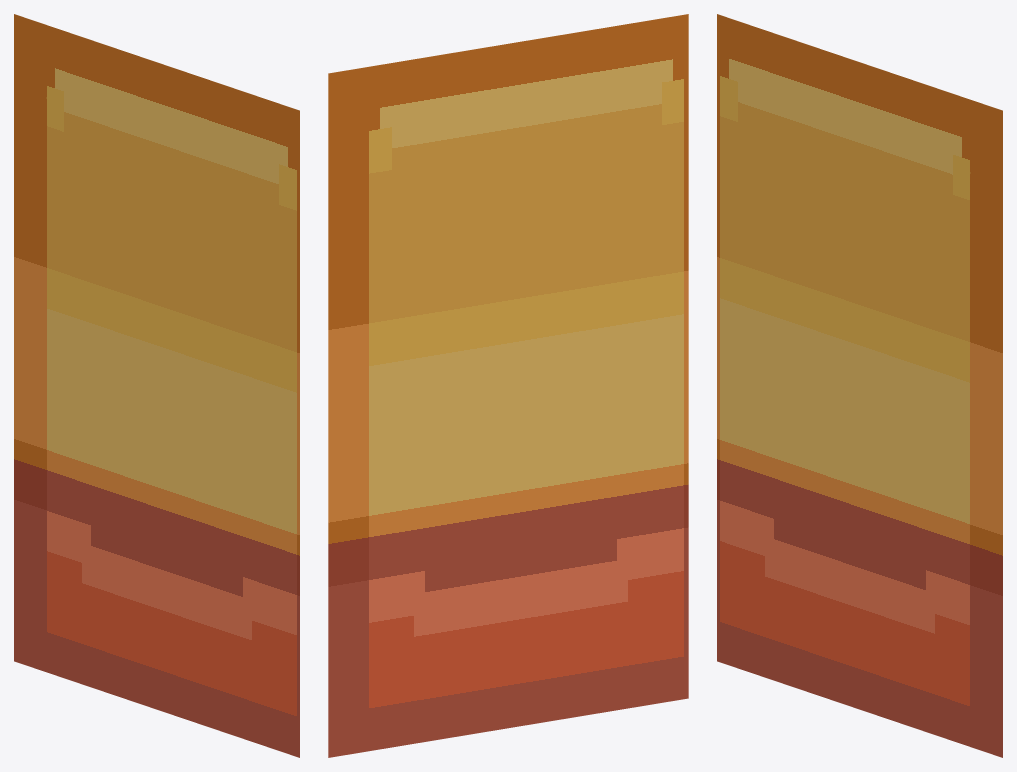
3 views of the same model, side by side, from view 1: azimuth 90°, elevation 25°; view 2: azimuth 150°, elevation 25°; view 3: azimuth 270°, elevation 25° (orthographic). The views are drawn at different scales.
Bounding box in the file's own units: 1 × 3.12 × 1.25.
Materials: 1 (1 with a texture image).
